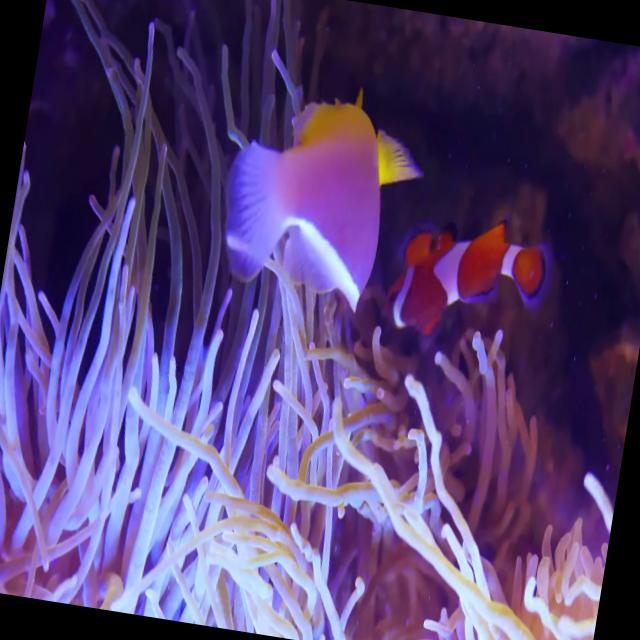fish: (202, 47, 439, 344), (372, 196, 562, 384)
